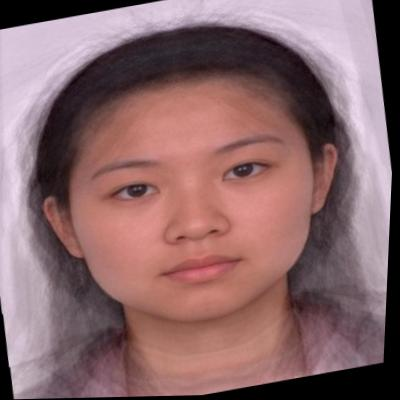netural: (52, 60, 344, 338)
